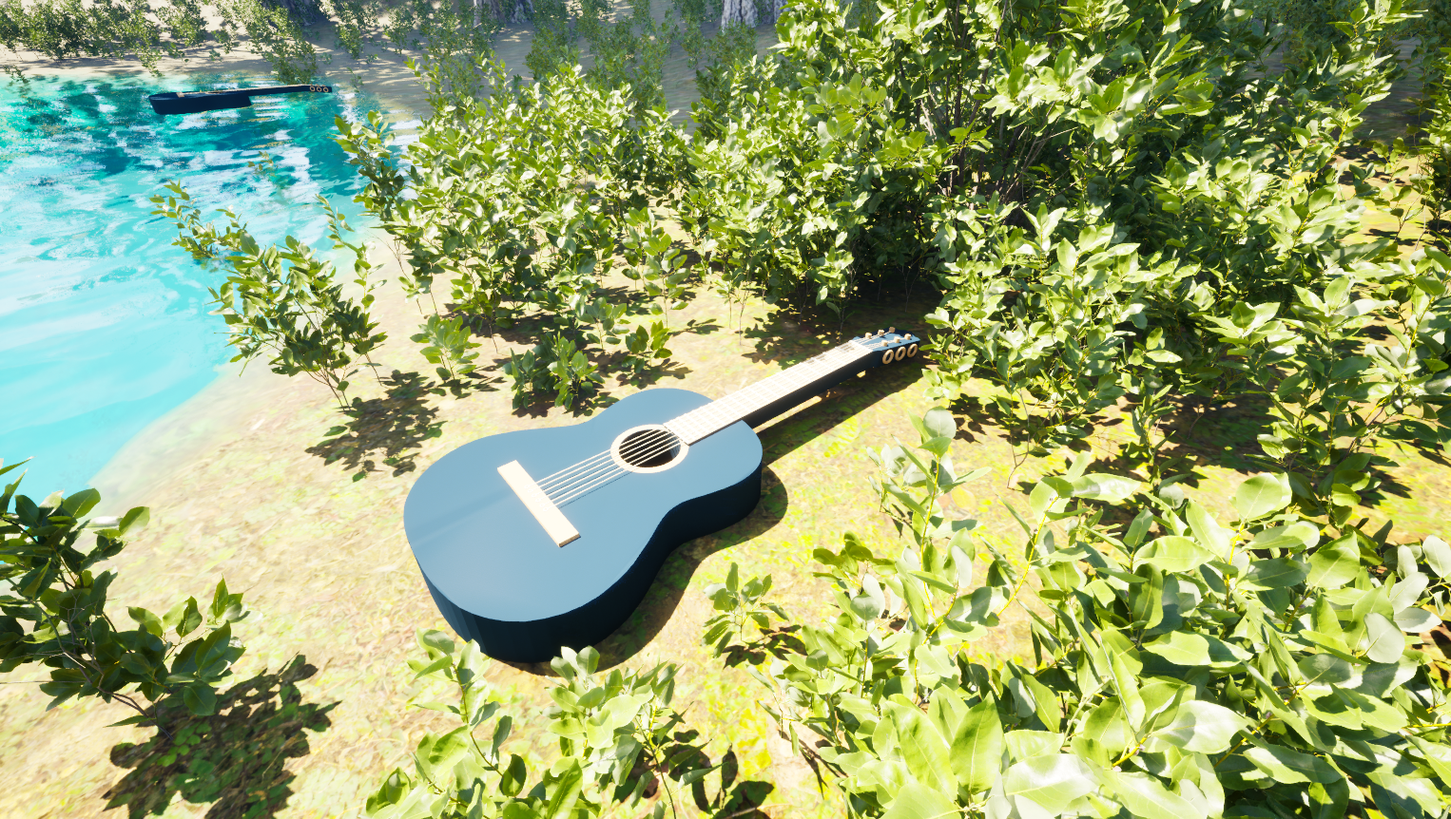Guitar: (372, 290, 995, 712)
